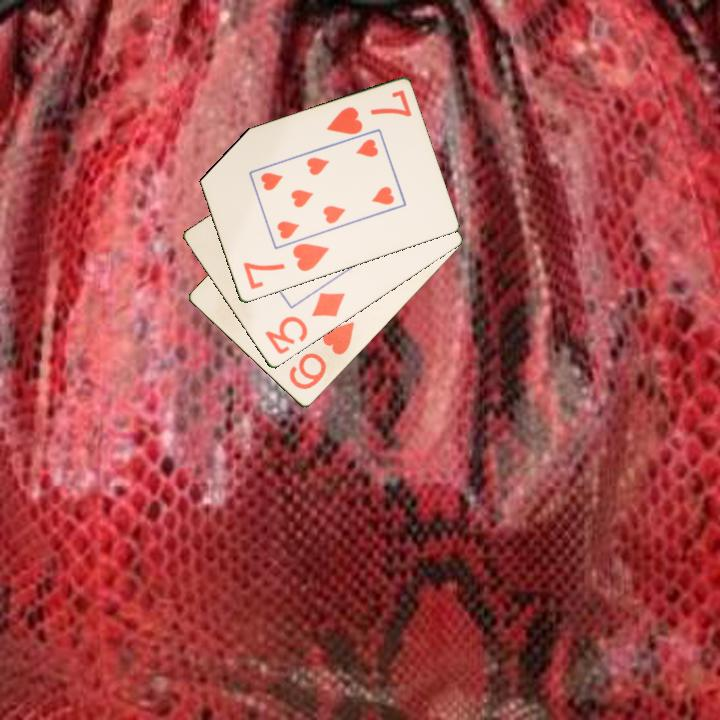3d: (261, 289, 348, 358)
6h: (285, 318, 357, 393)
7h: (239, 240, 332, 293), (323, 86, 414, 138)
